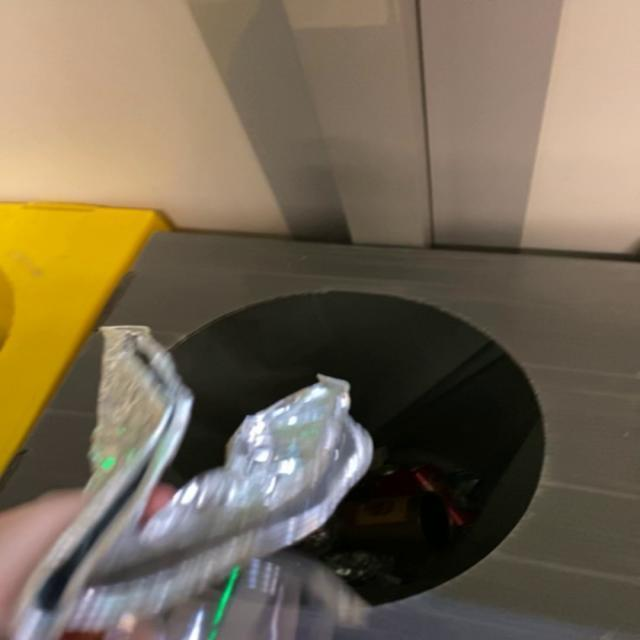Bin: (101, 232, 639, 640), (1, 334, 99, 508), (1, 335, 99, 508)
Metal: (10, 326, 372, 640)
